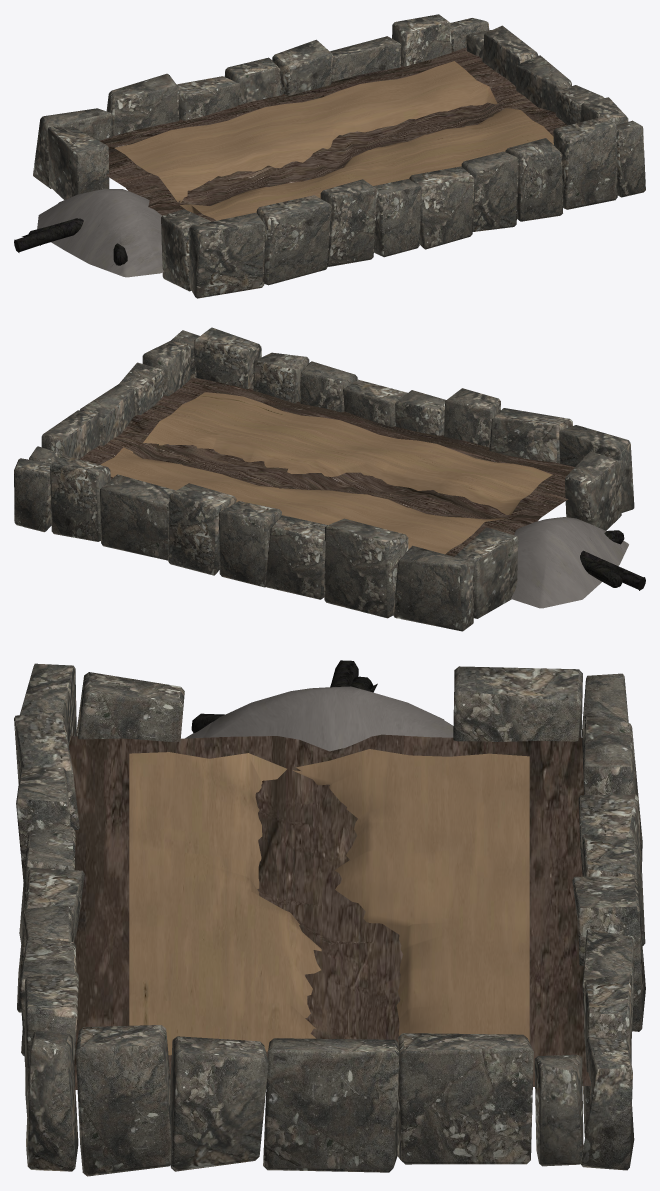
File: kit_sf_salt_pan_split_p.glb
3 views of the same model, one above another, from view 1: azimuth 30°, elevation 25°; view 2: azimuth 150°, elevation 25°; view 3: azimuth 270°, elevation 25° (orthographic). The views are drawn at different scales.
Parts seen in each view (by area): view 1: kit_sf_salt_pan_split_p; view 2: kit_sf_salt_pan_split_p; view 3: kit_sf_salt_pan_split_p.
Boxes of the visible parts, x1,y1,x2,y2 form: kit_sf_salt_pan_split_p: (14,14,645,298); kit_sf_salt_pan_split_p: (14,327,645,631); kit_sf_salt_pan_split_p: (14,660,645,1176).
Size of the model in its own units: 3.66 by 0.525 by 2.05.
Materials: 1 (1 with a texture image).
